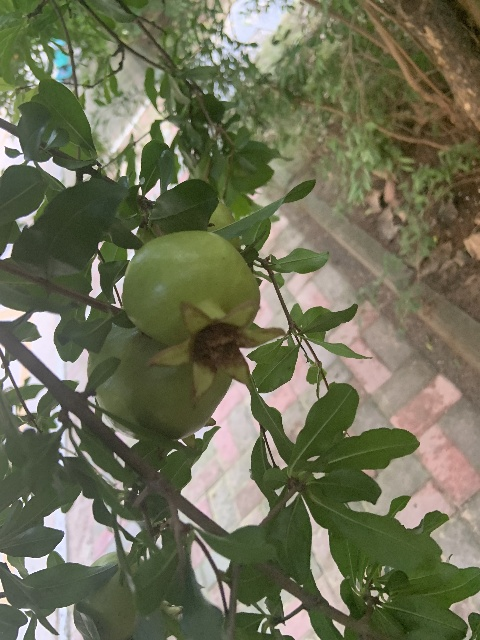mid-growth: (122, 230, 286, 406), (86, 322, 232, 440), (72, 550, 182, 640)
